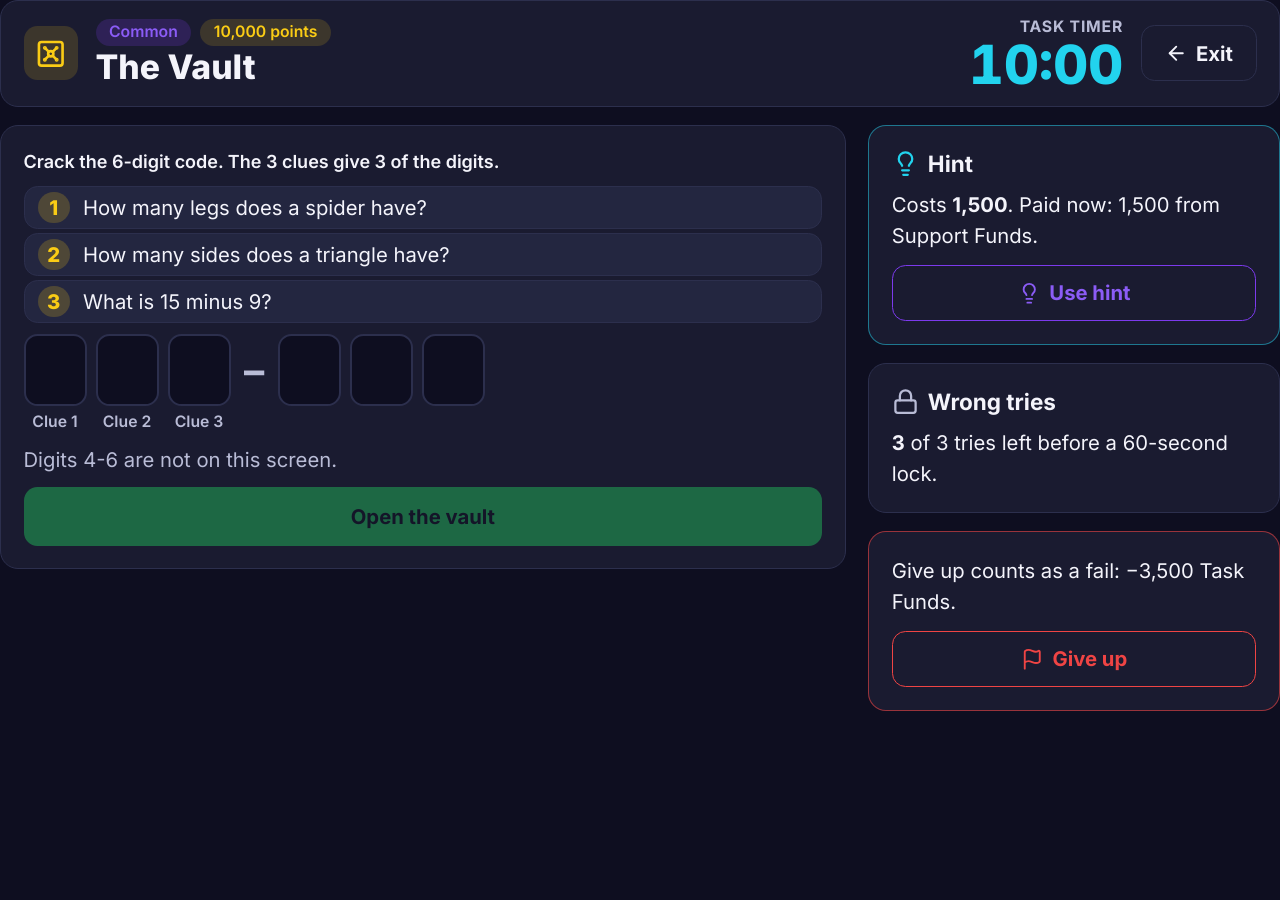
Test case: The Vault › shows the server's message when a code is refused
The width and height of the screenshot is (1280, 900).
In the field named "Digit 1": {"x": 55, "y": 370} [24, 334, 86, 406], type "1"
In the field named "Digit 2": {"x": 127, "y": 370} [96, 334, 158, 406], type "1"
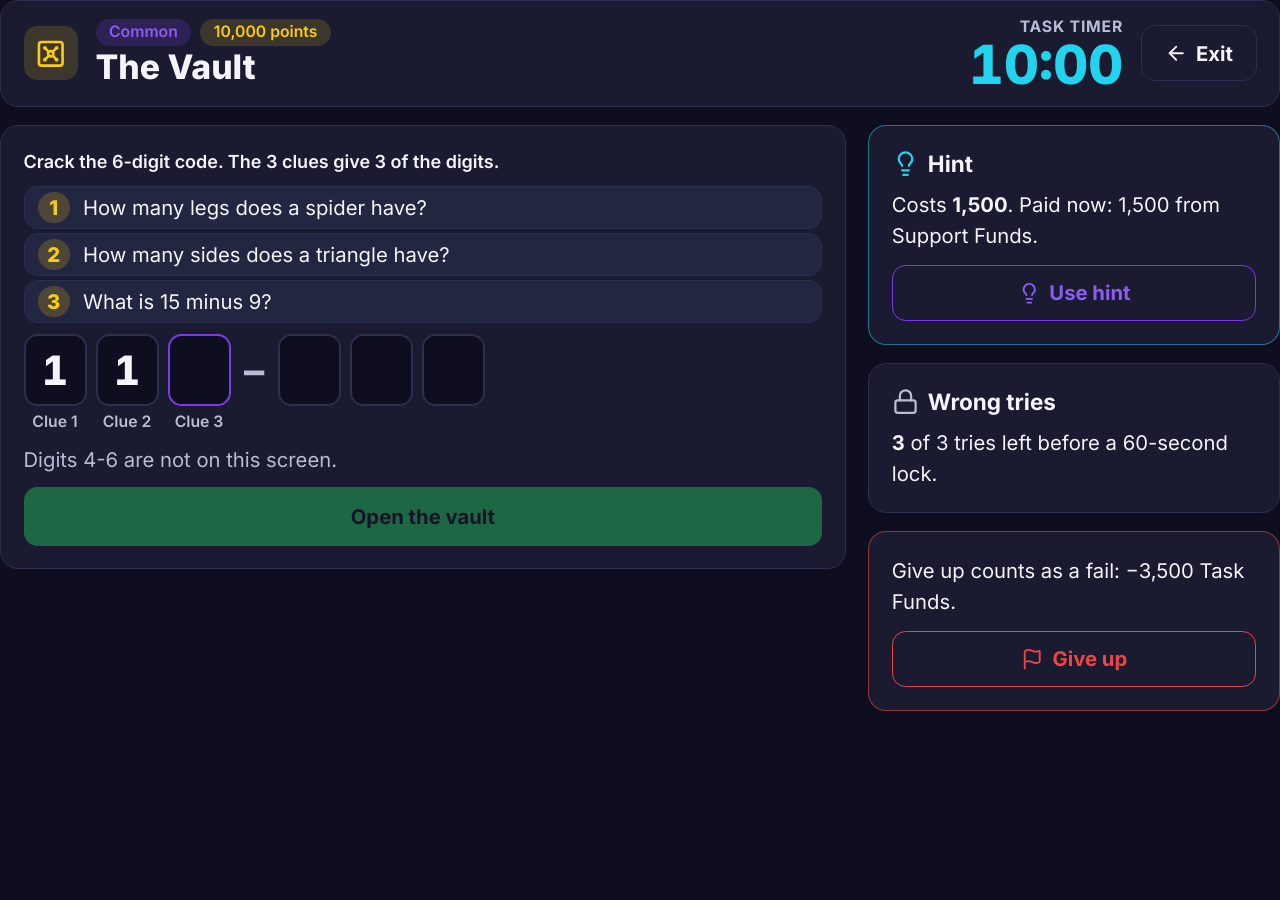
In the field named "Digit 3": {"x": 199, "y": 370} [168, 334, 230, 406], type "1"
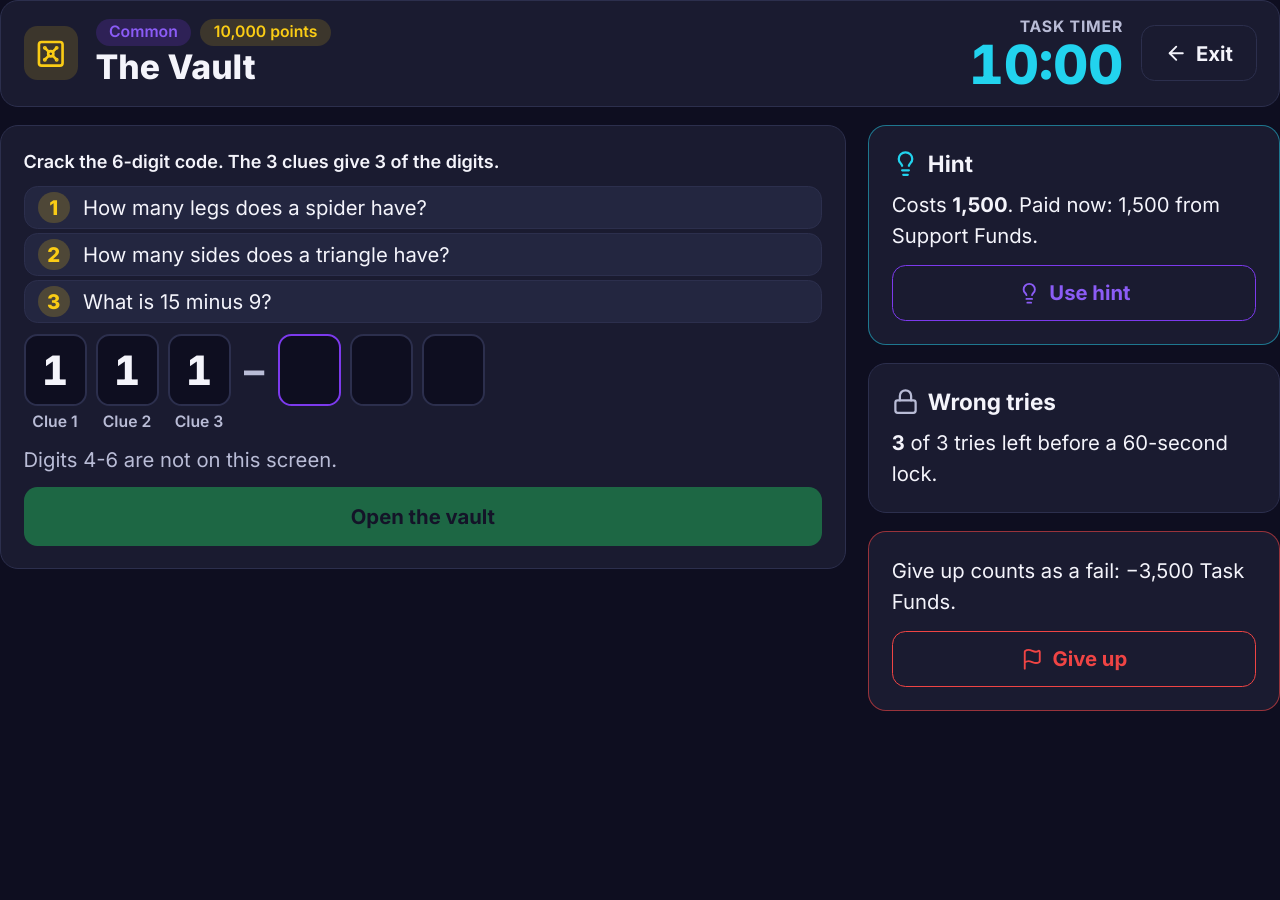
In the field named "Digit 4": {"x": 309, "y": 370} [278, 334, 341, 406], type "1"
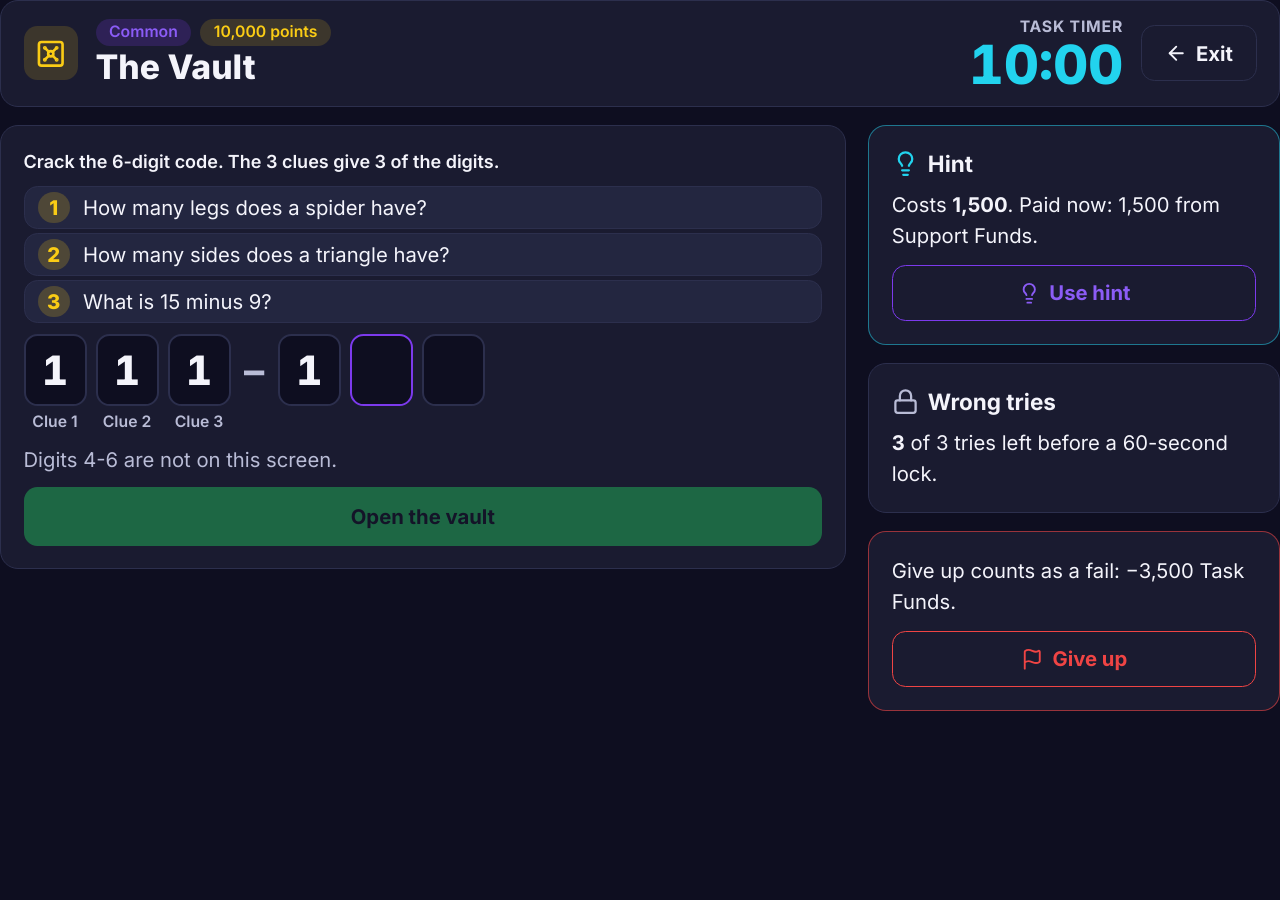
In the field named "Digit 5": {"x": 381, "y": 370} [350, 334, 413, 406], type "1"
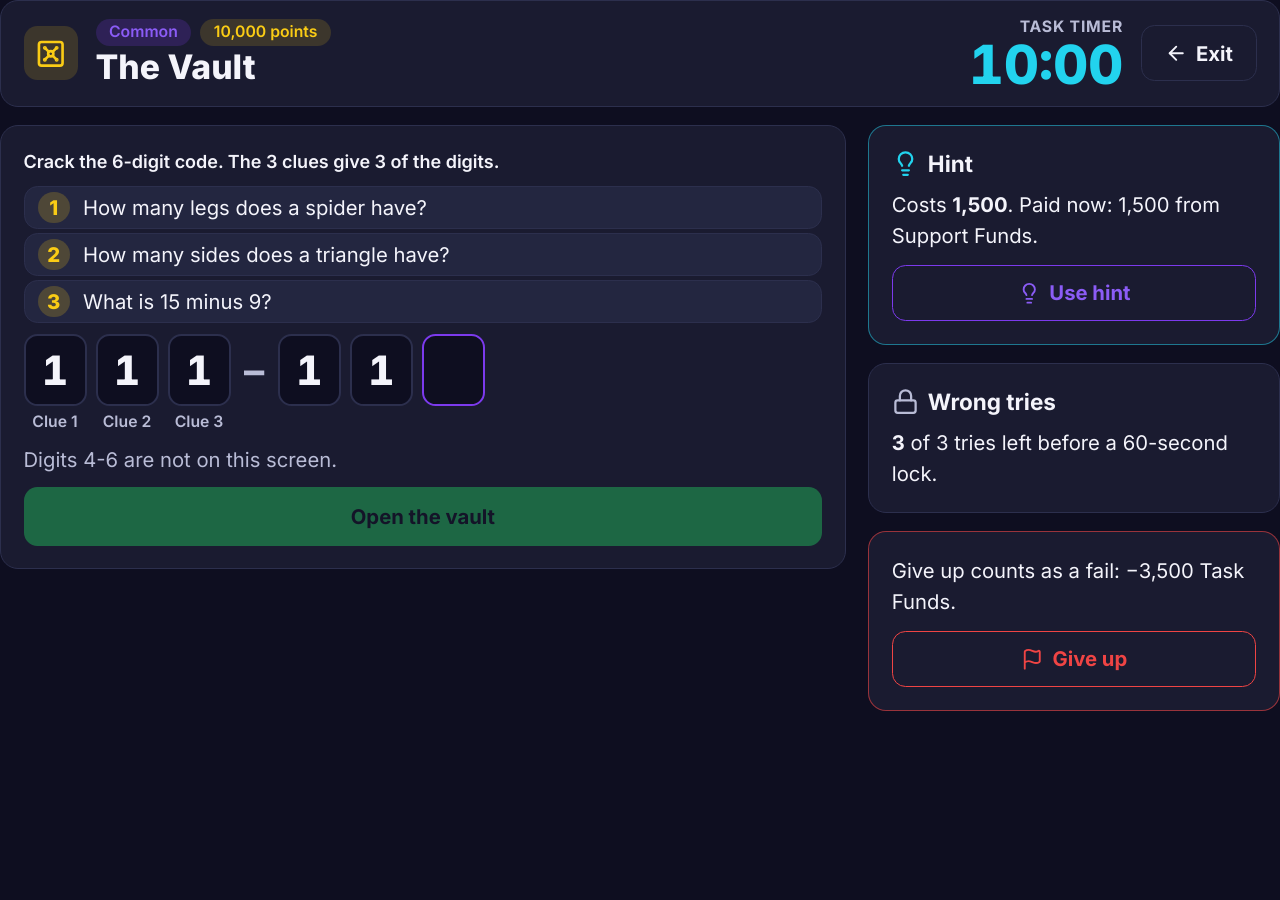
In the field named "Digit 6": {"x": 453, "y": 370} [422, 334, 485, 406], type "1"
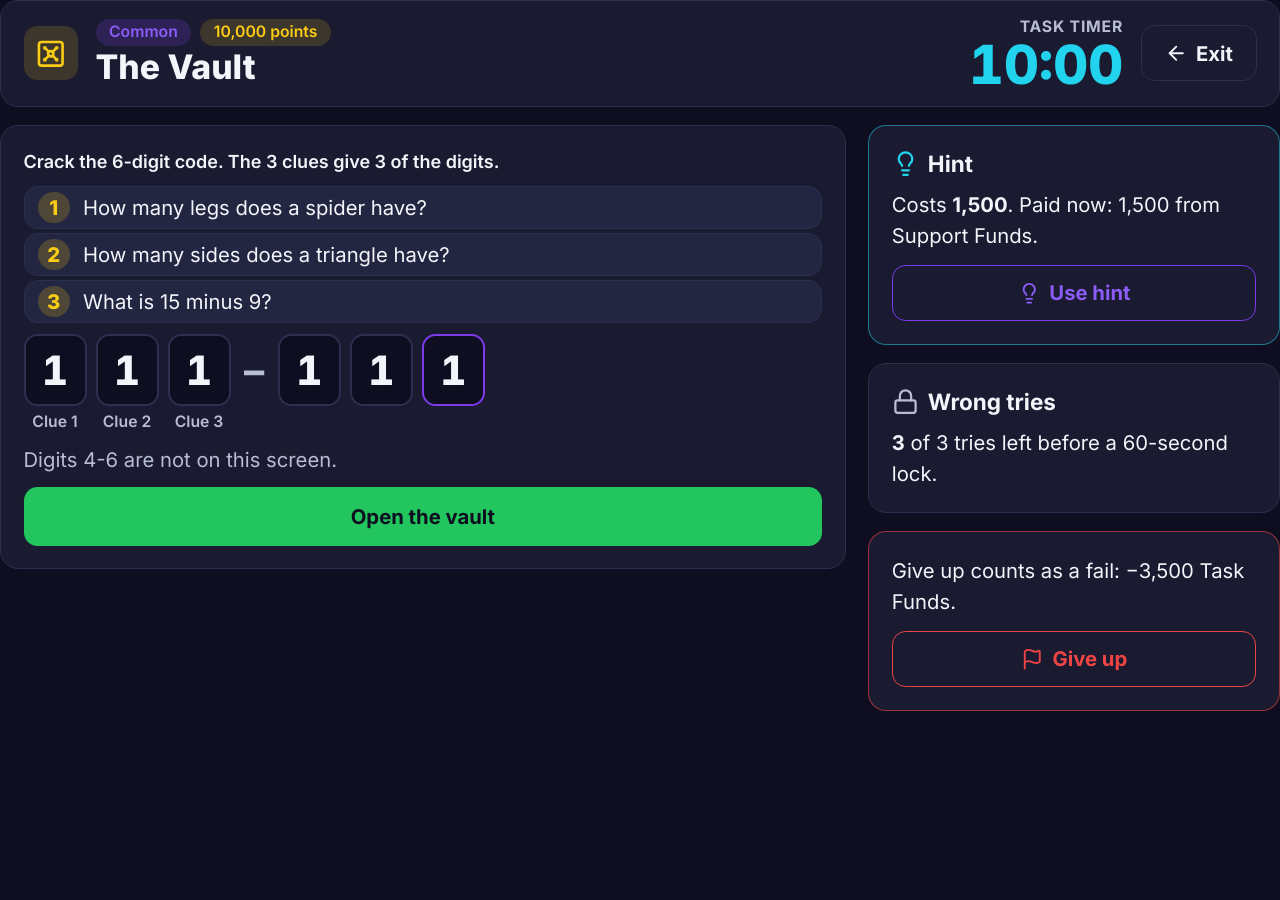
Click the button "Open the vault": {"x": 423, "y": 516} [24, 487, 822, 546]
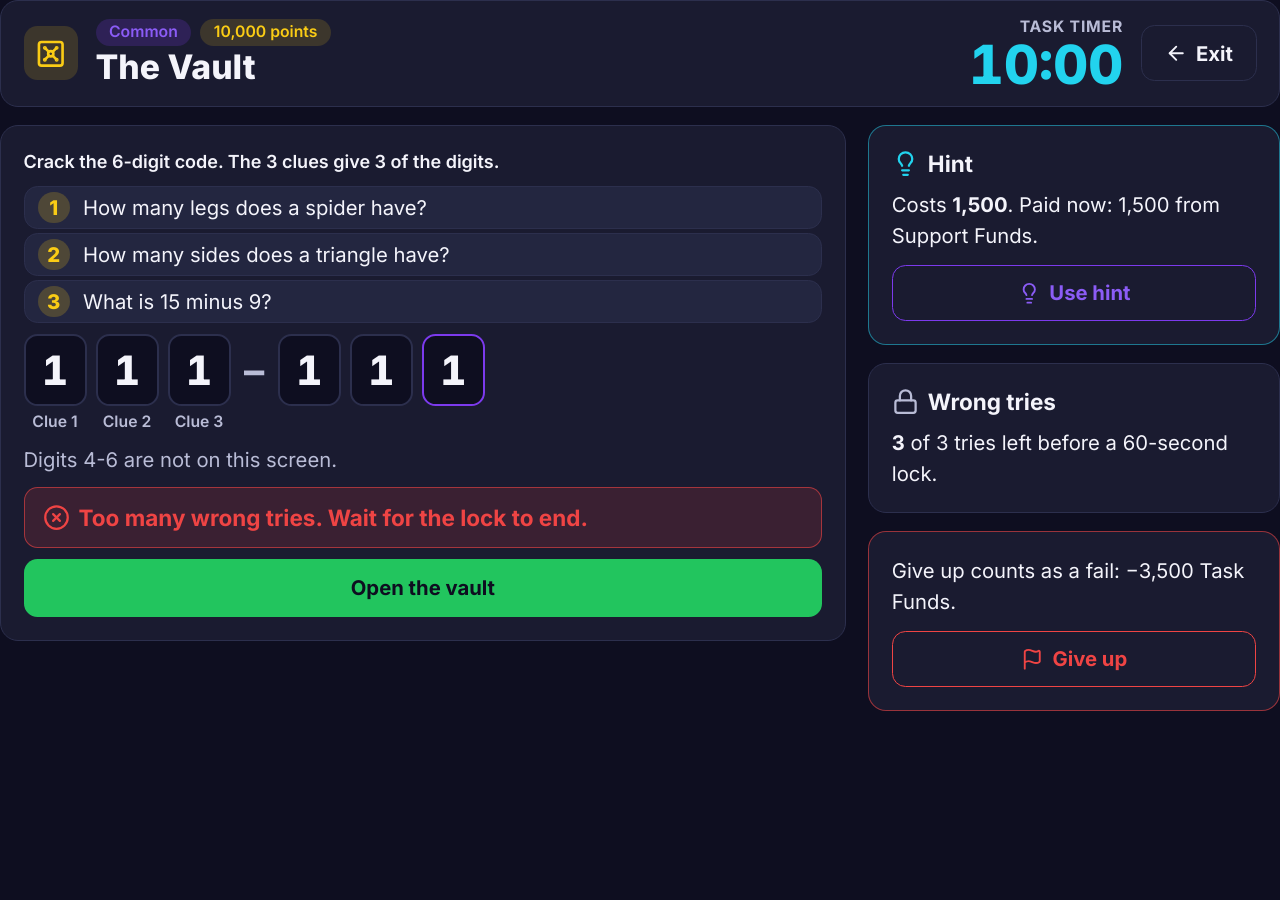
Now the text "Too many wrong tries. Wait for the lock to end." is shown, box [24, 487, 822, 548]
